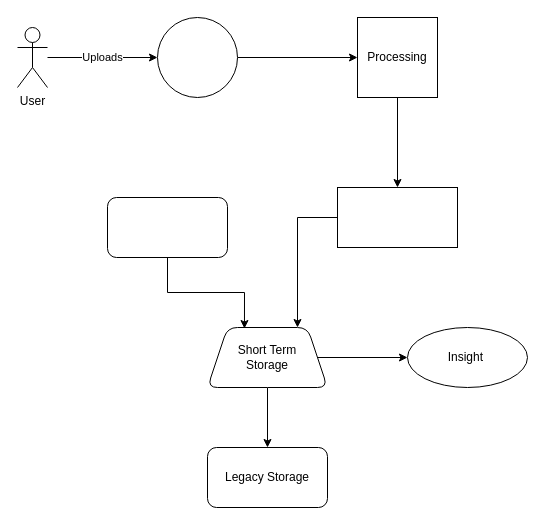
Some shapes in this 545 by 525 pixel diagram are drawn without their labels. Here are the shapes that lost their labels. From the top down, the centre of each, then its label:
At [197,57]: "Web Application".
At [167,227]: "Kafka Stream".
At [397,217]: "Kafka Format".
